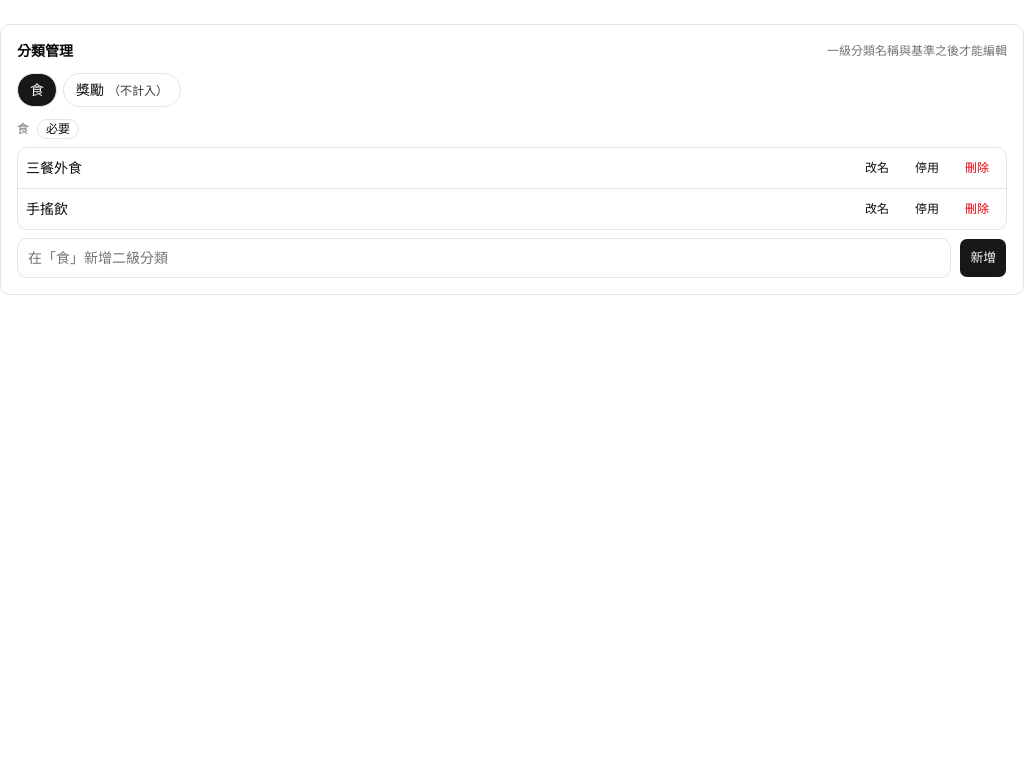
Test: CategoryManager 新增／改名／停用 › 改名：整筆 CategoryUpdate，其餘欄位沿用
This screenshot has width=1024, height=768.
Expected: the text "手搖飲" is shown, x1=26 y1=201 x2=68 y2=217
Click the button with aria-label "改名 手搖飲" at (877,209), box x1=856 y1=197 x2=898 y2=221
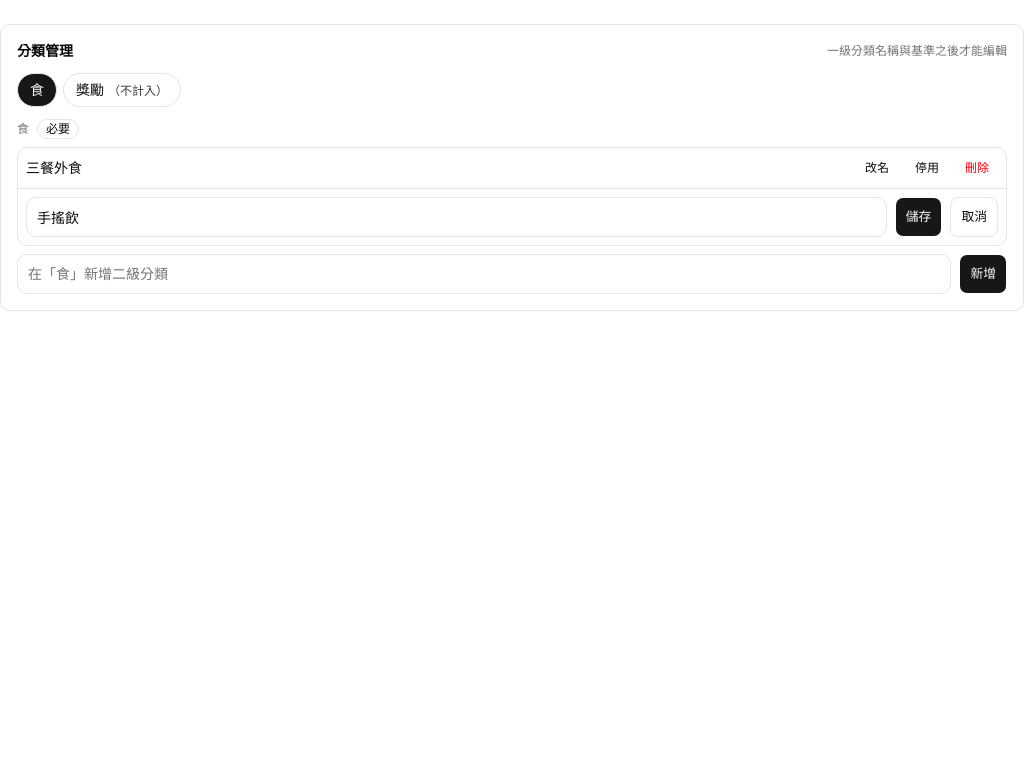
Replace the text in the field showing "手搖飲" with "飲料" at (456,217), box x1=26 y1=197 x2=887 y2=237
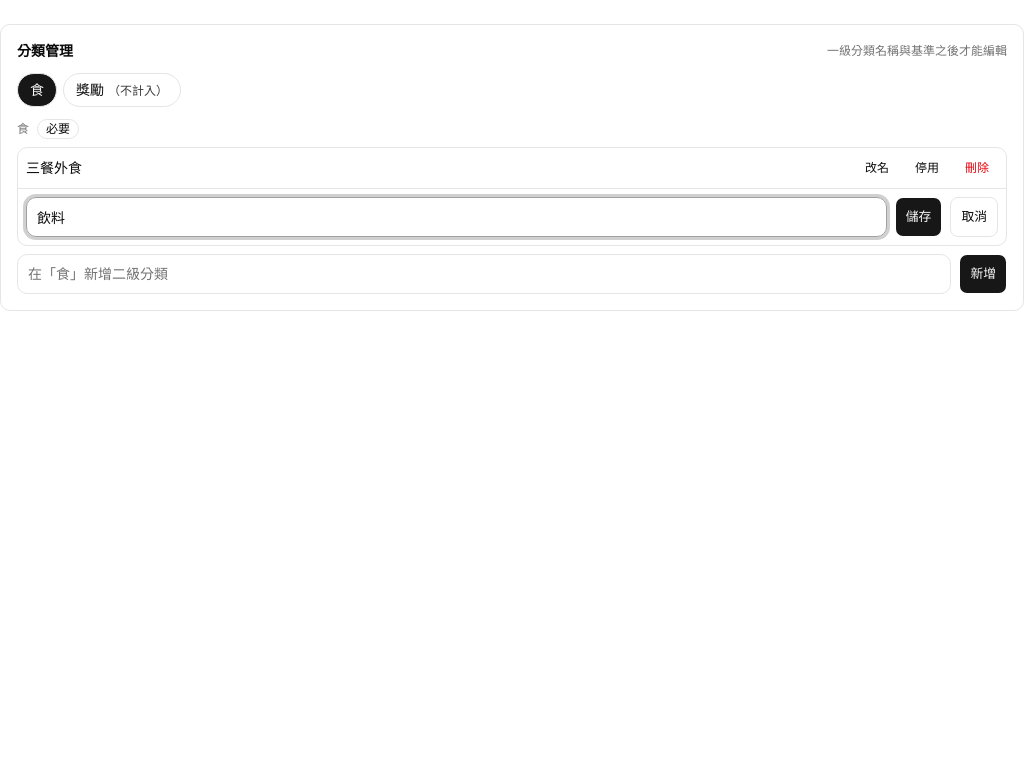
Click the button "儲存" at (919,217), box x1=895 y1=197 x2=942 y2=237
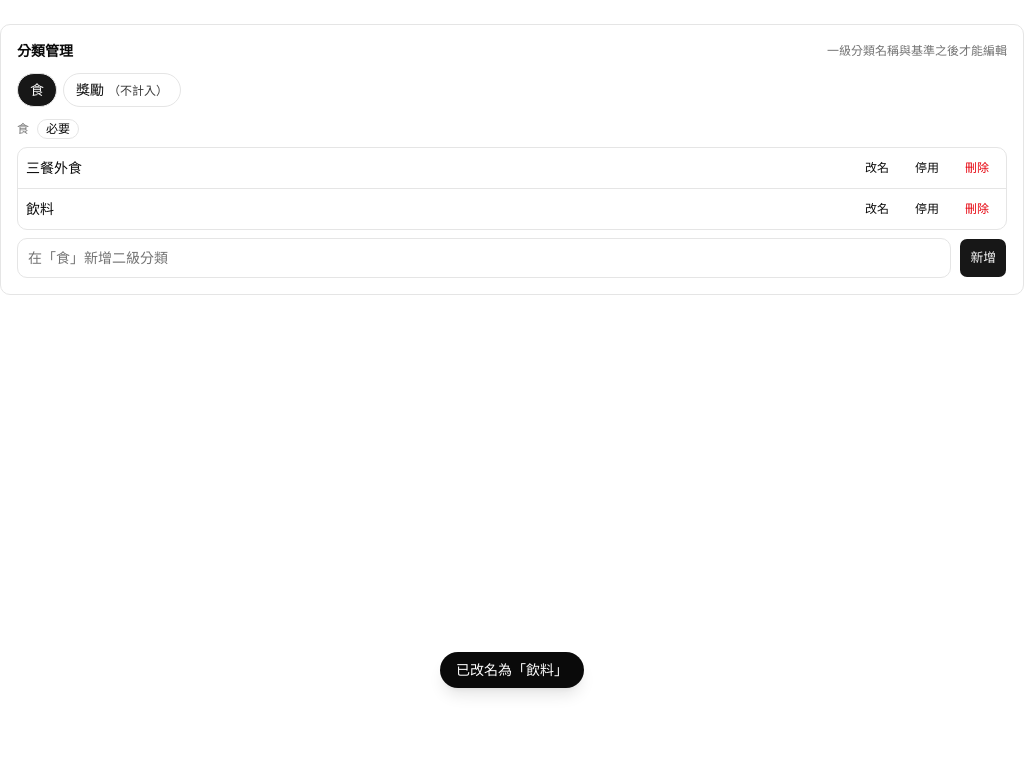
Now the text "飲料" is shown, box x1=26 y1=201 x2=54 y2=217
